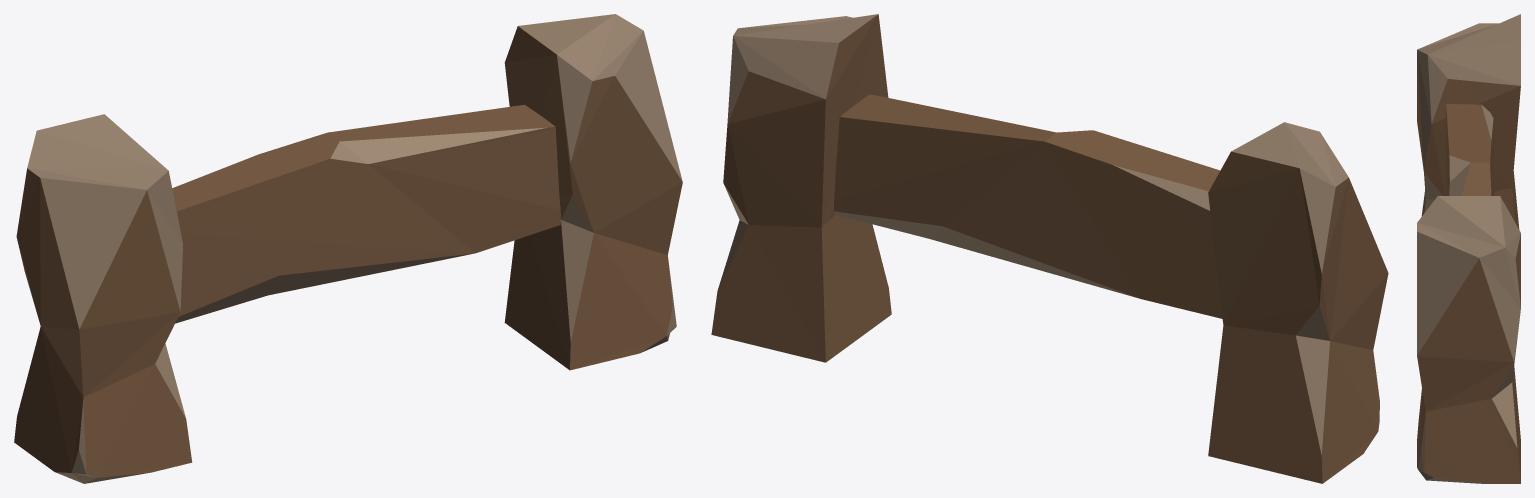
File: Railing_C_01.FBX
The picture shows the model from 3 angles, left to right: view 1: azimuth 30°, elevation 25°; view 2: azimuth 150°, elevation 25°; view 3: azimuth 270°, elevation 25°; orthographic projection. The views are drawn at different scales.
Parts seen in each view (by area): view 1: Railing_C_01; view 2: Railing_C_01; view 3: Railing_C_01.
Part boxes in pixels (bbox=[...]): Railing_C_01: bbox=[14, 14, 682, 483]; Railing_C_01: bbox=[711, 14, 1388, 483]; Railing_C_01: bbox=[1417, 14, 1520, 483].
Size of the model in its own units: 1.8 by 0.8732 by 0.337.
